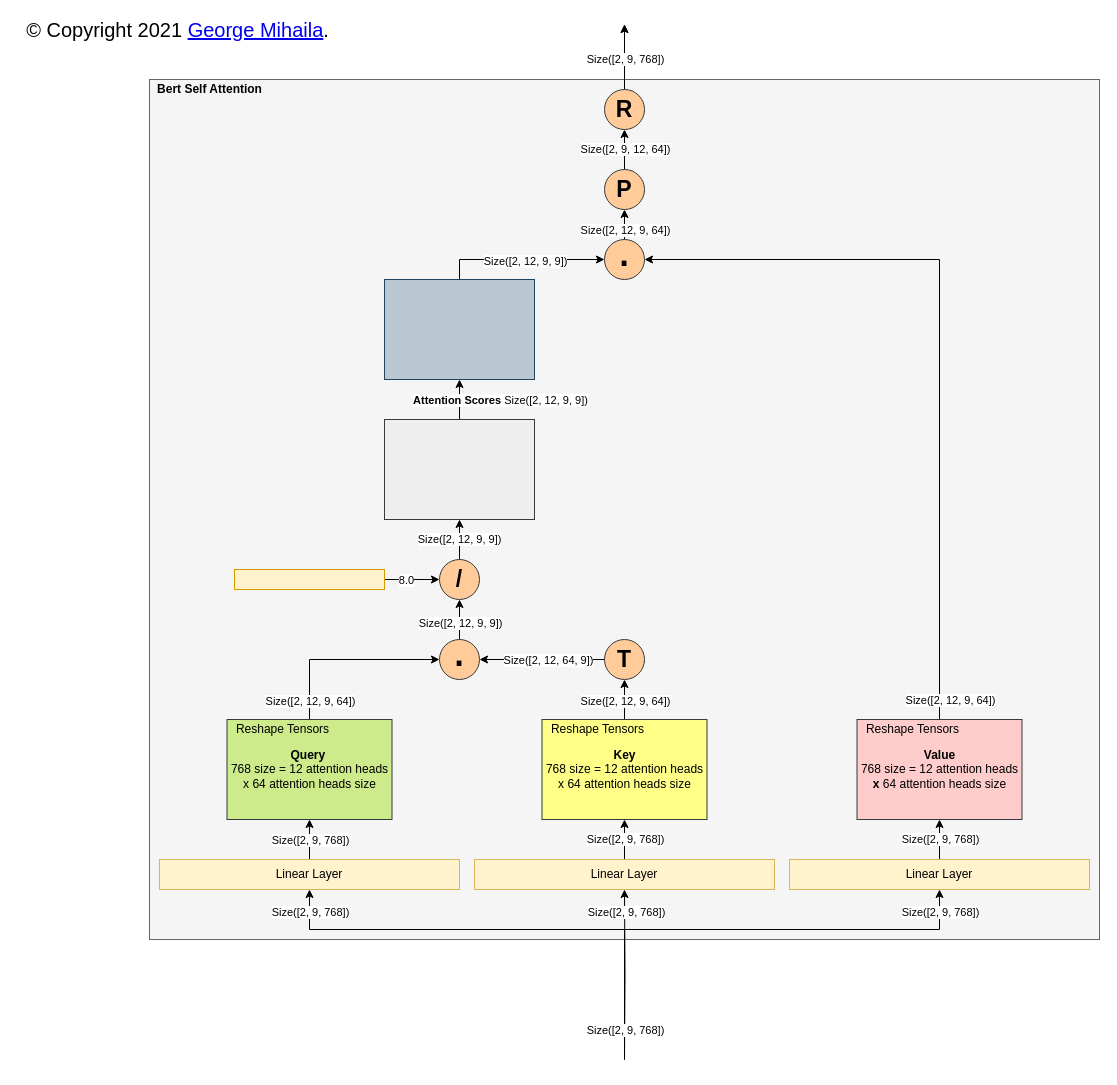
Some shapes in this 1117 by 1085 pixel diagram are drawn without their labels. The centre of each missing label's shape, as x and y in pixels:
"Dropout Layer p=0.1" goes at point 459,329.
"Softmax Layer" goes at point 459,469.
"sqrt(64 attention head size)" goes at point 309,579.
